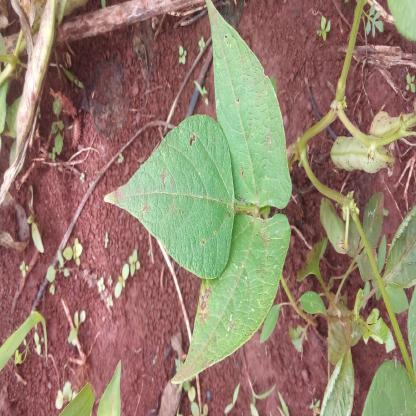Beans_Angular_LeafSpot: (111, 124, 235, 298), (173, 216, 287, 385), (202, 3, 292, 216)
